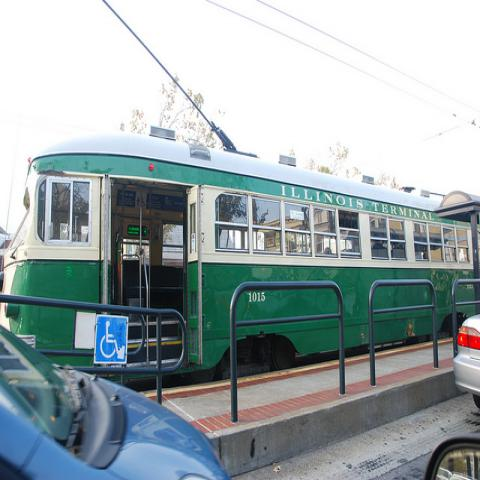bus: (0, 125, 478, 386)
car: (2, 320, 223, 474), (452, 312, 480, 417)
